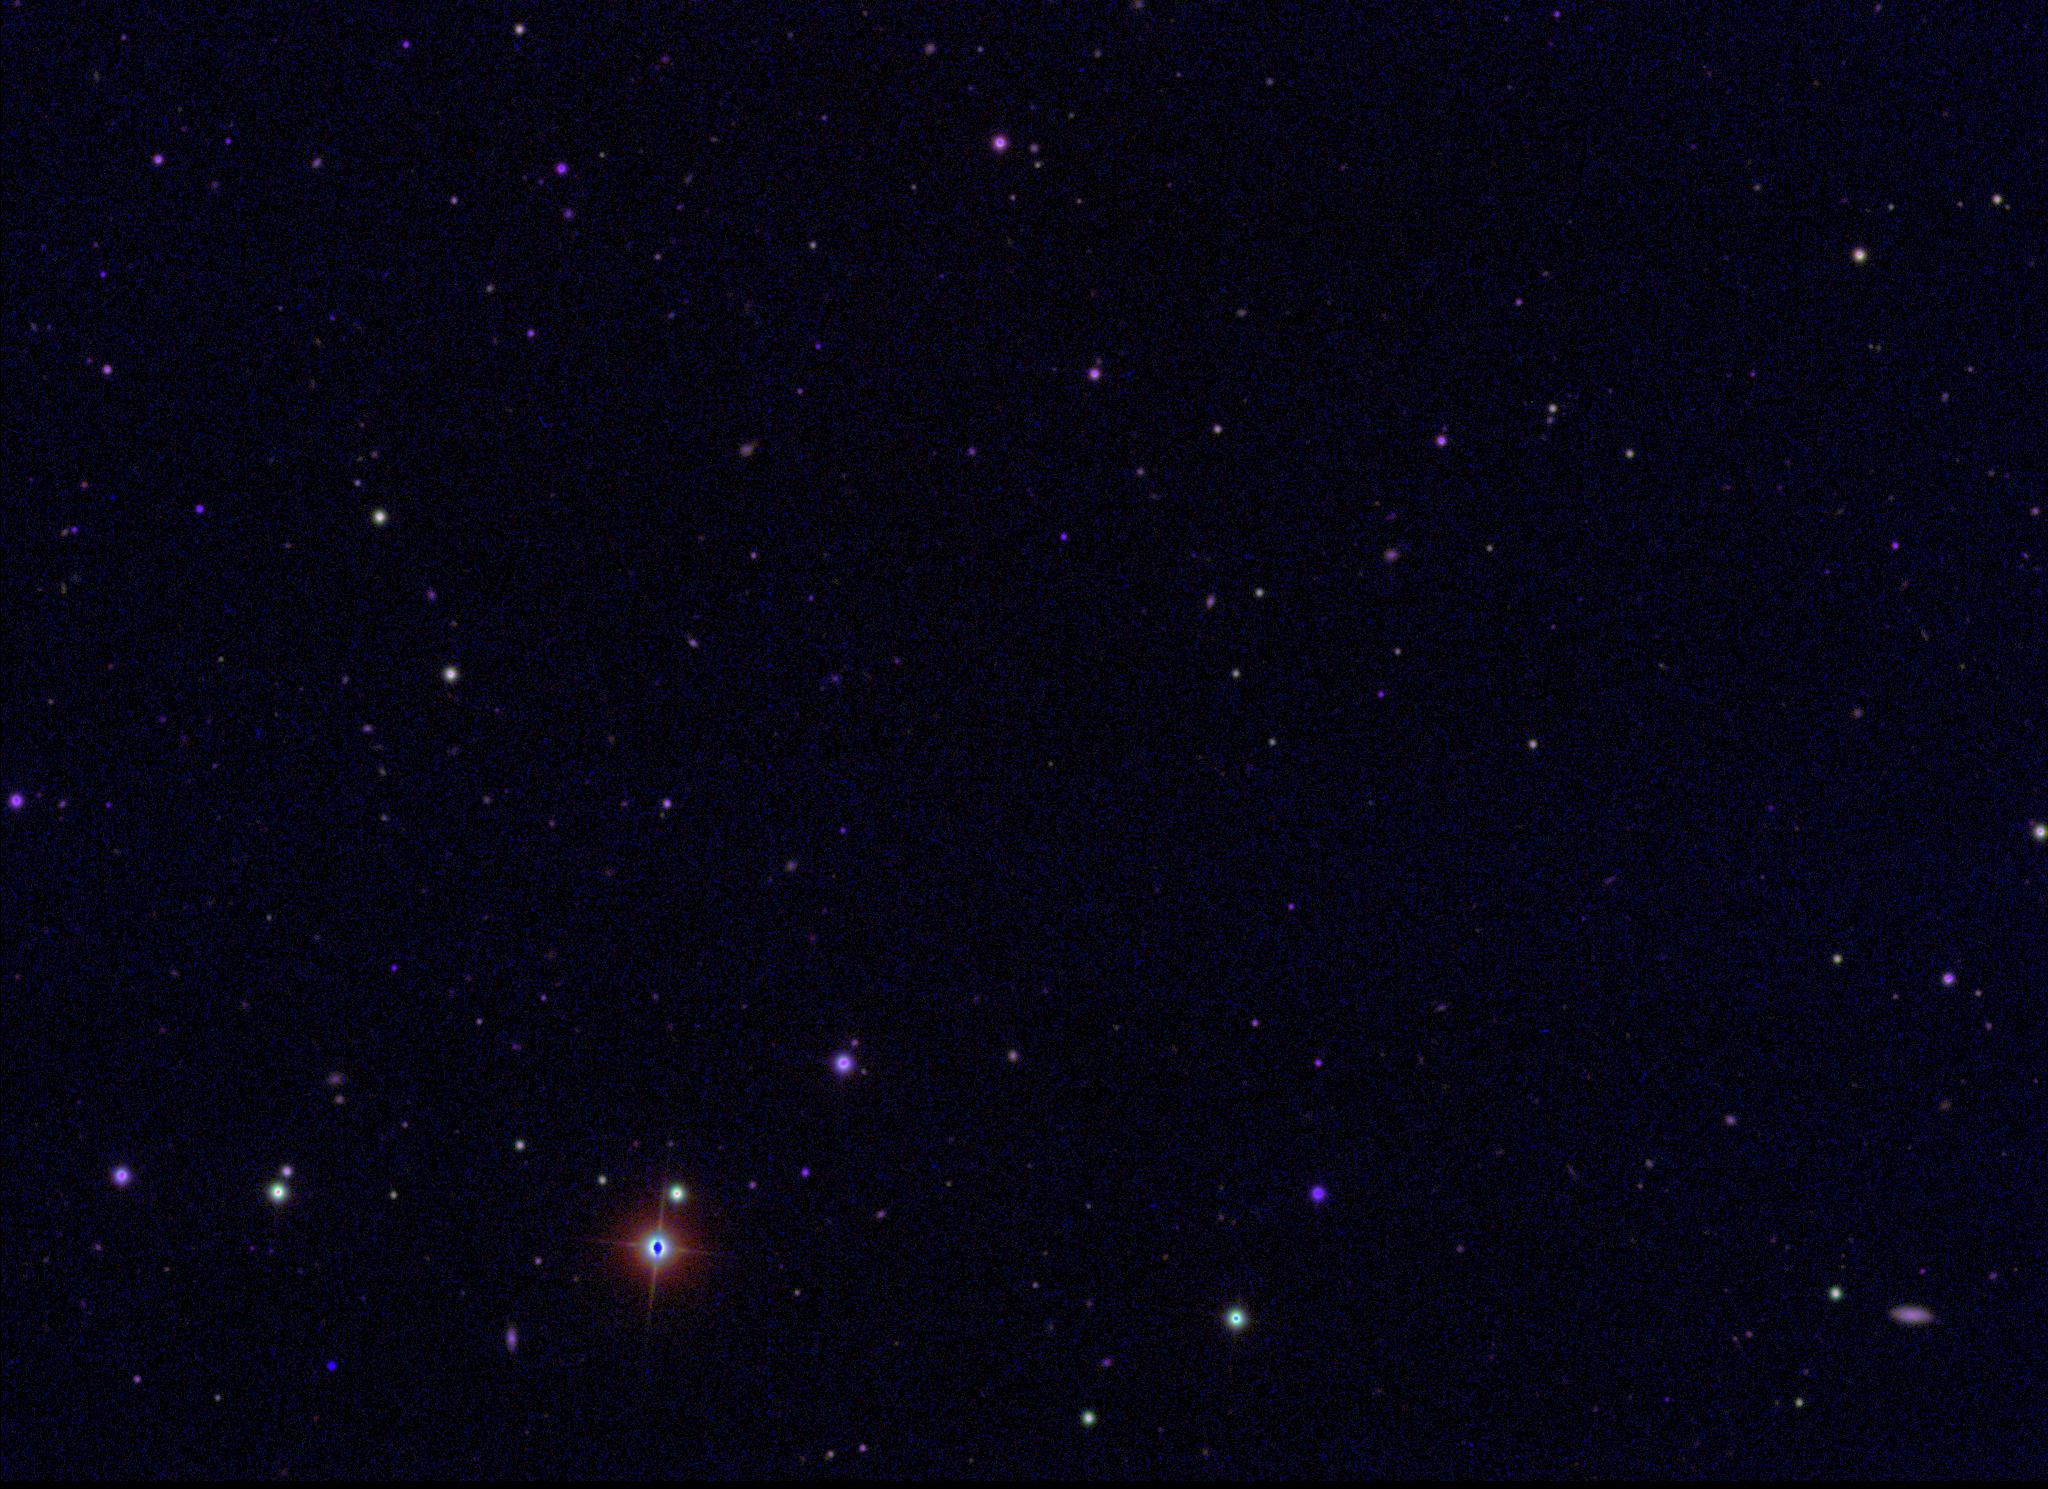L: (324, 1362, 339, 1374)
